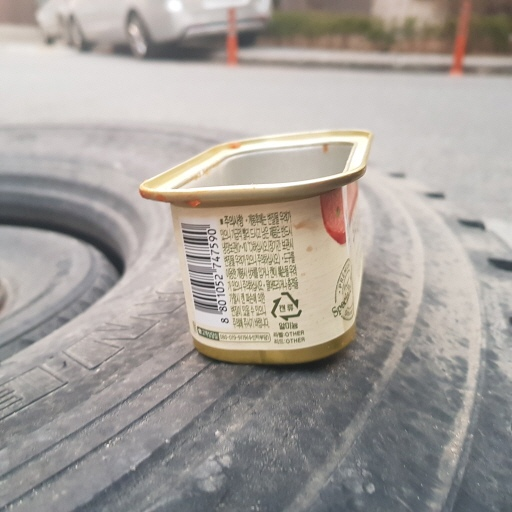Metal_2: (137, 128, 376, 365)
